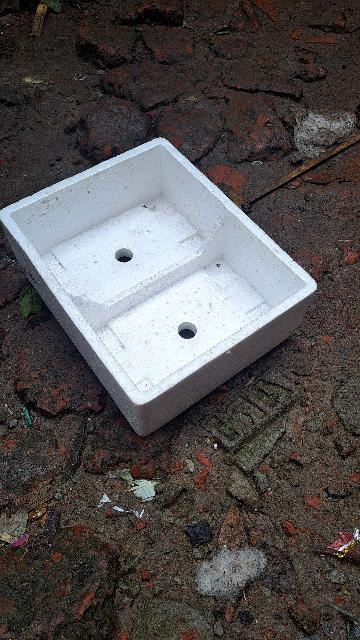cocksheet: (0, 129, 332, 457)
